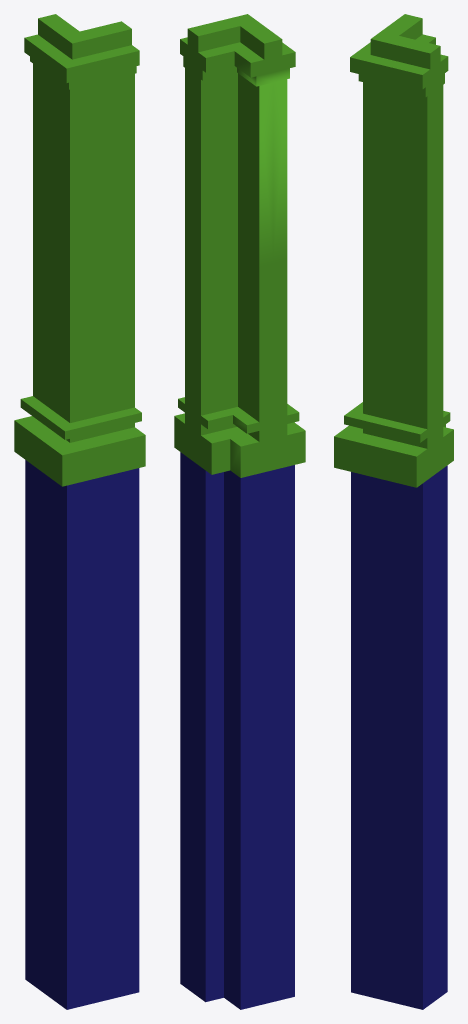
Rendered from SM_fence_mur_coin.fbx.
3 views of the same model, side by side, from view 1: azimuth 30°, elevation 25°; view 2: azimuth 210°, elevation 25°; view 3: azimuth 330°, elevation 25° (orthographic).
Parts seen in each view (by area): view 1: Plane011, Box013; view 2: Plane011, Box013; view 3: Plane011, Box013.
Boxes of the visible parts, left/top/right/bottom form: Plane011: left=25, top=460, right=139, bottom=1009; Box013: left=14, top=14, right=145, bottom=486; Plane011: left=180, top=452, right=294, bottom=1009; Box013: left=174, top=14, right=305, bottom=477; Plane011: left=351, top=465, right=447, bottom=1009; Box013: left=334, top=14, right=453, bottom=487.
Size of the model in its own units: 96.25 by 1058 by 95.88.
